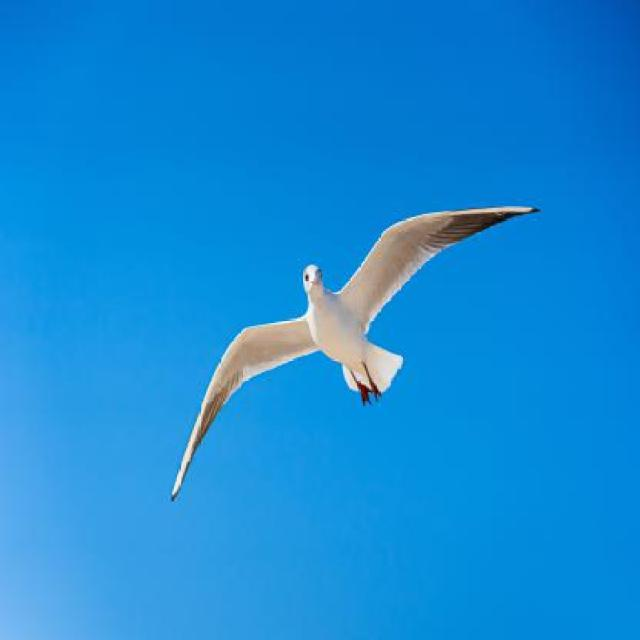bird: (168, 208, 542, 506)
